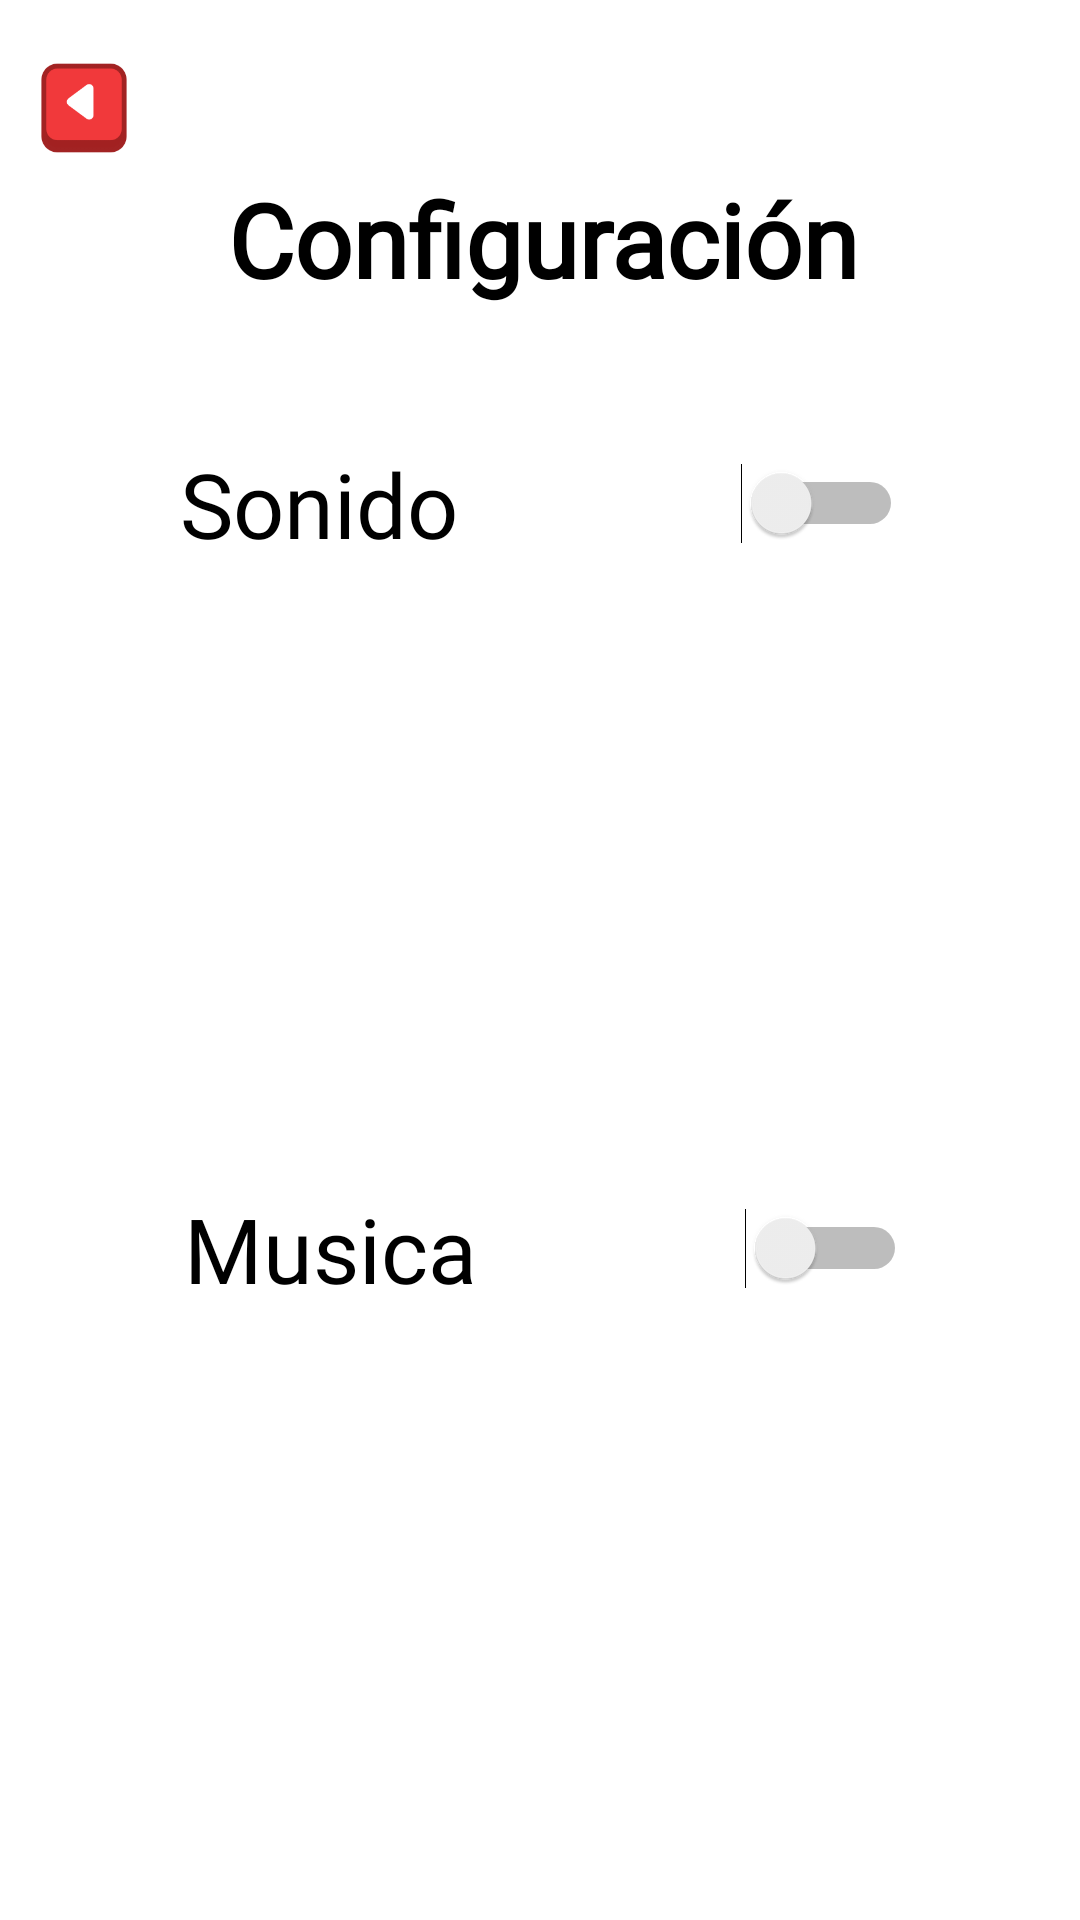

Named icons in this screenshot (1080×1920) and their bounding boxes, (x1, y1, x2, y2):
Boton para ir hacia atras: (41, 63, 127, 153)
